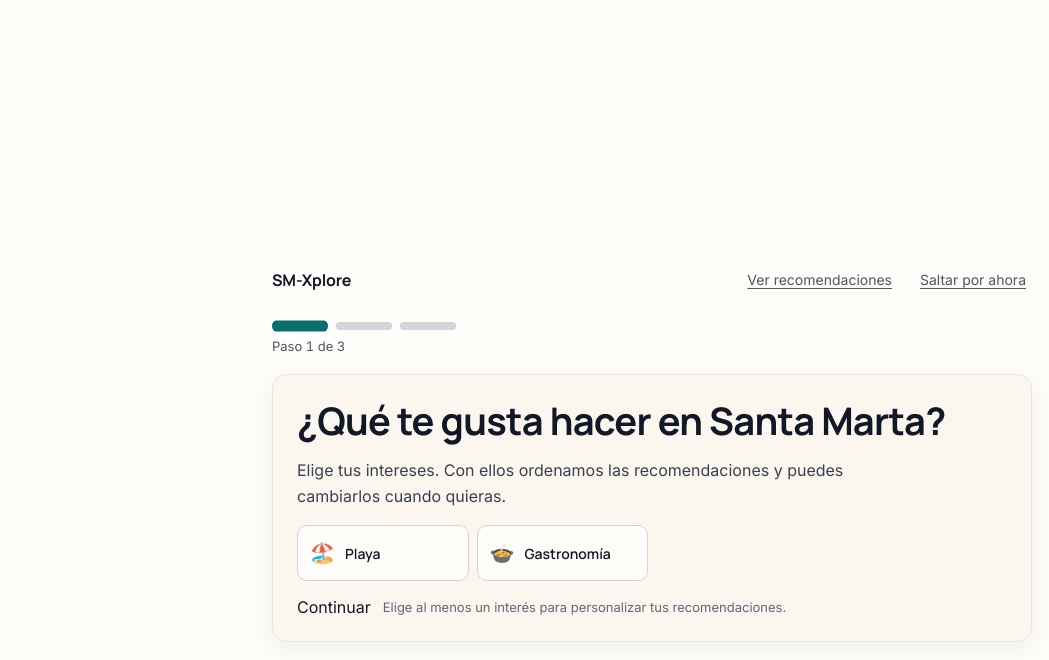
Test: OnboardingPage › el enlace de saltar lleva al catálogo sin tocar preferencias
Expected: the button "🏖️ Playa" is shown, [297, 525, 468, 581]
Step 1. Click the link "Saltar por ahora" → click(973, 280), box [920, 271, 1026, 288]
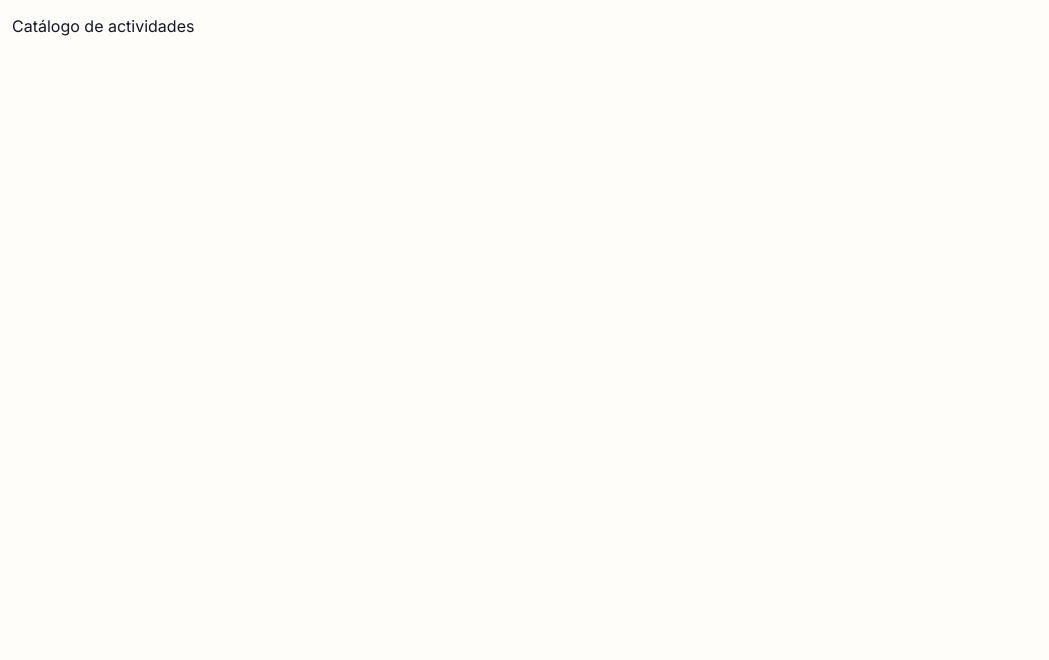
Result: the text "Catálogo de actividades" is shown at [12, 16, 194, 36]
